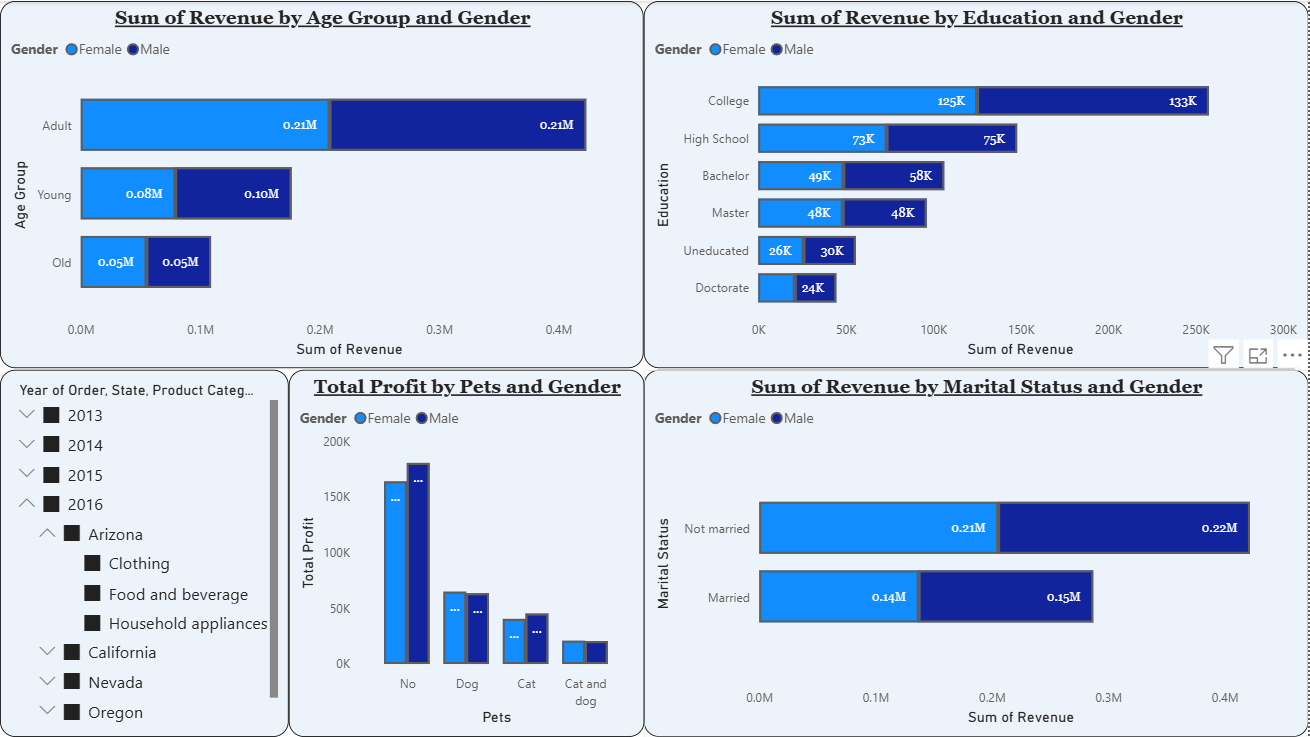

The dashboard page shown, as its layout file describes it:
{"tool":"powerbi","page":{"name":"Customer Insights","canvas":[1280,720],"ordinal":1},"visuals":[{"type":"barChart","fields":{"Category":["Orders.Age Group"],"Y":["Sum(Orders.Revenue)"],"Series":["Orders.Gender"]},"box":[0,0,629.8,359.5],"z":0},{"type":"barChart","fields":{"Y":["Sum(Orders.Revenue)"],"Category":["Customers.Education"],"Series":["Orders.Gender"]},"box":[629.7,0,650.1,359.5],"z":1000},{"type":"barChart","fields":{"Y":["Sum(Orders.Revenue)"],"Category":["Customers.Marital Status"],"Series":["Orders.Gender"]},"box":[629.7,360.8,650.1,359.5],"z":2000},{"type":"slicer","fields":{"Values":["Orders.Year of Order","Orders.State","Orders.Product Category"]},"box":[0,360.7,282.5,359.5],"z":3000},{"type":"clusteredColumnChart","fields":{"Y":["Orders.Total Profit"],"Category":["Customers.Pets"],"Series":["Orders.Gender"]},"box":[282,361,348,359],"z":4000}]}

Visuals, with their boxes in screenshot pixels (x1, y1, x2, y2), scaled from the page's 1280x720 canvas onto the 1310x737 screenshot:
barChart - Orders.Age Group x Sum(Orders.Revenue): {"x1": 0, "y1": 0, "x2": 645, "y2": 368}
barChart - Sum(Orders.Revenue) x Customers.Education: {"x1": 644, "y1": 0, "x2": 1309, "y2": 368}
barChart - Sum(Orders.Revenue) x Customers.Marital Status: {"x1": 644, "y1": 369, "x2": 1309, "y2": 736}
slicer - Orders.Year of Order x Orders.State: {"x1": 0, "y1": 369, "x2": 289, "y2": 736}
clusteredColumnChart - Orders.Total Profit x Customers.Pets: {"x1": 289, "y1": 370, "x2": 645, "y2": 736}
